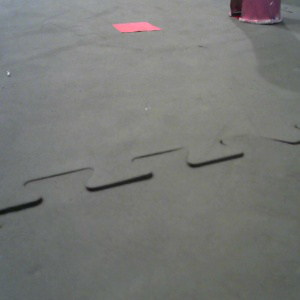right: (228, 1, 287, 27)
